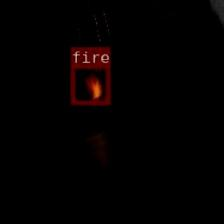fire: (70, 64, 109, 104)
